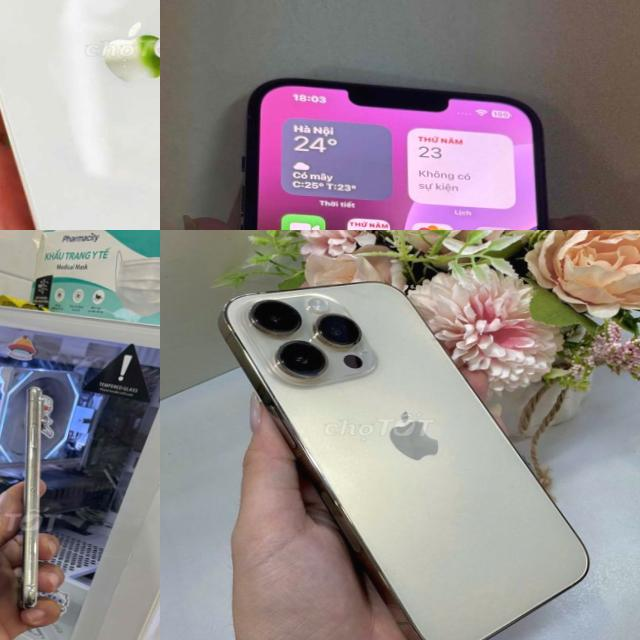gen_12_13: (218, 63, 578, 230), (0, 0, 160, 230)
gen_14: (202, 274, 602, 640)
gen_x_xs: (10, 382, 60, 618)
